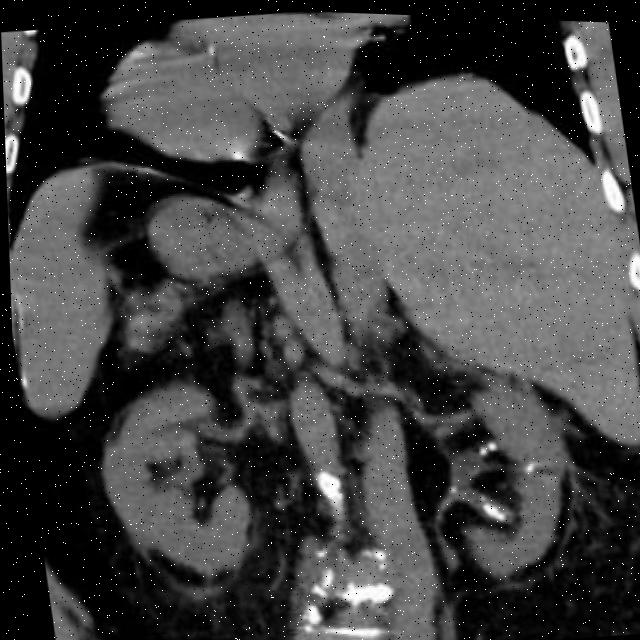Tas_Var: (511, 451, 539, 476), (475, 494, 496, 513), (490, 504, 506, 520), (471, 441, 486, 453), (483, 435, 496, 447), (442, 480, 454, 489)
